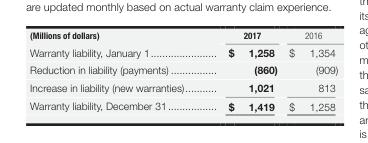table: (29, 29, 337, 112)
table column: (29, 29, 205, 112), (205, 29, 282, 112), (282, 29, 337, 112)
table column header: (29, 29, 337, 42)
table row: (29, 42, 337, 60), (29, 60, 337, 78), (29, 78, 337, 96), (29, 96, 337, 112), (29, 29, 337, 42)
